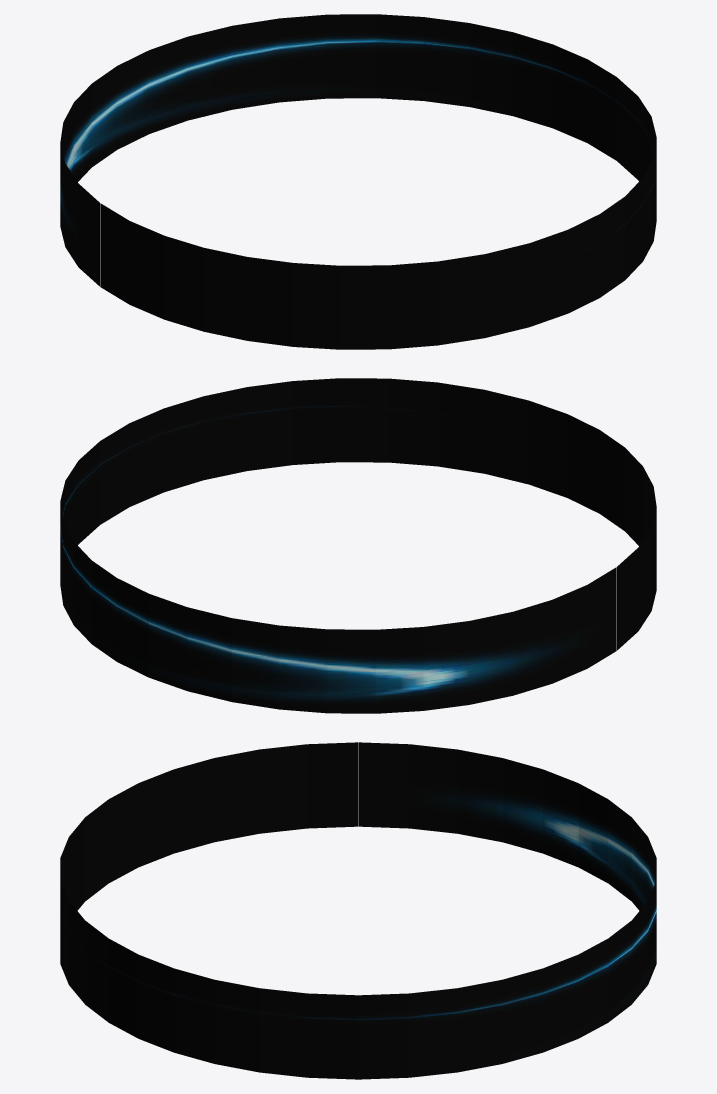
The model's file is 0293_firecircle.glb.
3 views of the same model, one above another, from view 1: azimuth 30°, elevation 25°; view 2: azimuth 150°, elevation 25°; view 3: azimuth 270°, elevation 25° (orthographic).
Bounding box in the file's own units: 2.2 × 0.296 × 2.19.
Materials: 1 (1 with a texture image).
